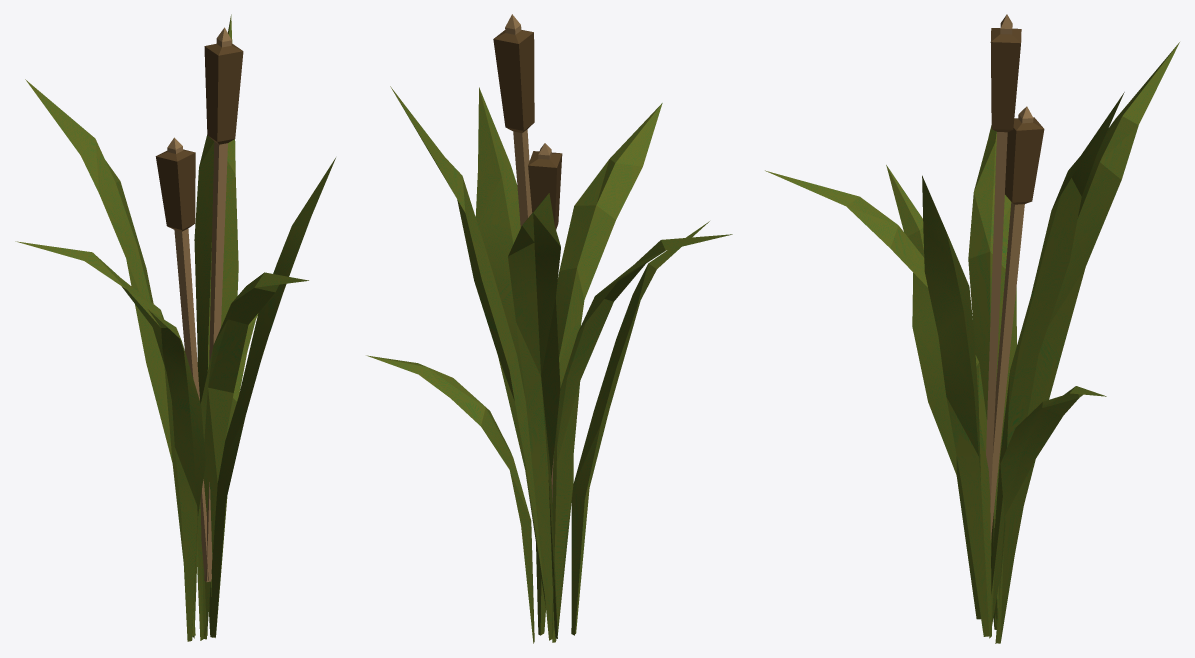
File: Plant_07.fbx
3 views of the same model, side by side, from view 1: azimuth 30°, elevation 25°; view 2: azimuth 150°, elevation 25°; view 3: azimuth 270°, elevation 25° (orthographic). The views are drawn at different scales.
Visible parts, largest first — view 1: polySurface130; view 2: polySurface130; view 3: polySurface130.
Boxes of the visible parts, left/top/right/bottom form: polySurface130: left=15, top=14, right=335, bottom=641; polySurface130: left=366, top=14, right=732, bottom=643; polySurface130: left=765, top=14, right=1179, bottom=643.
Bounding box in the file's own units: 164 × 310 × 183.
